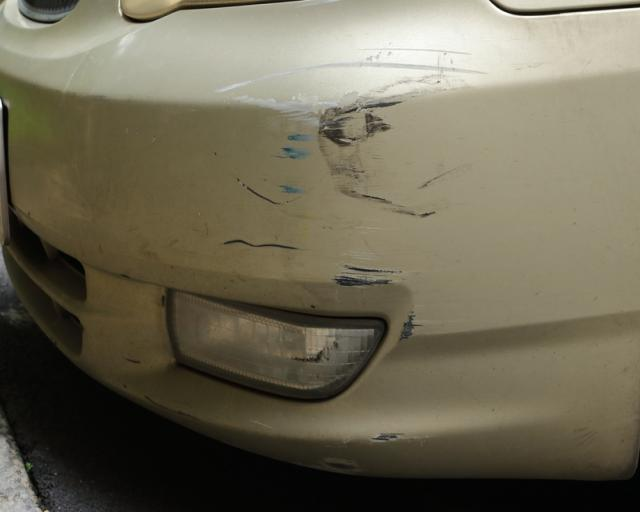scratch: (215, 46, 489, 342), (303, 429, 433, 473)
